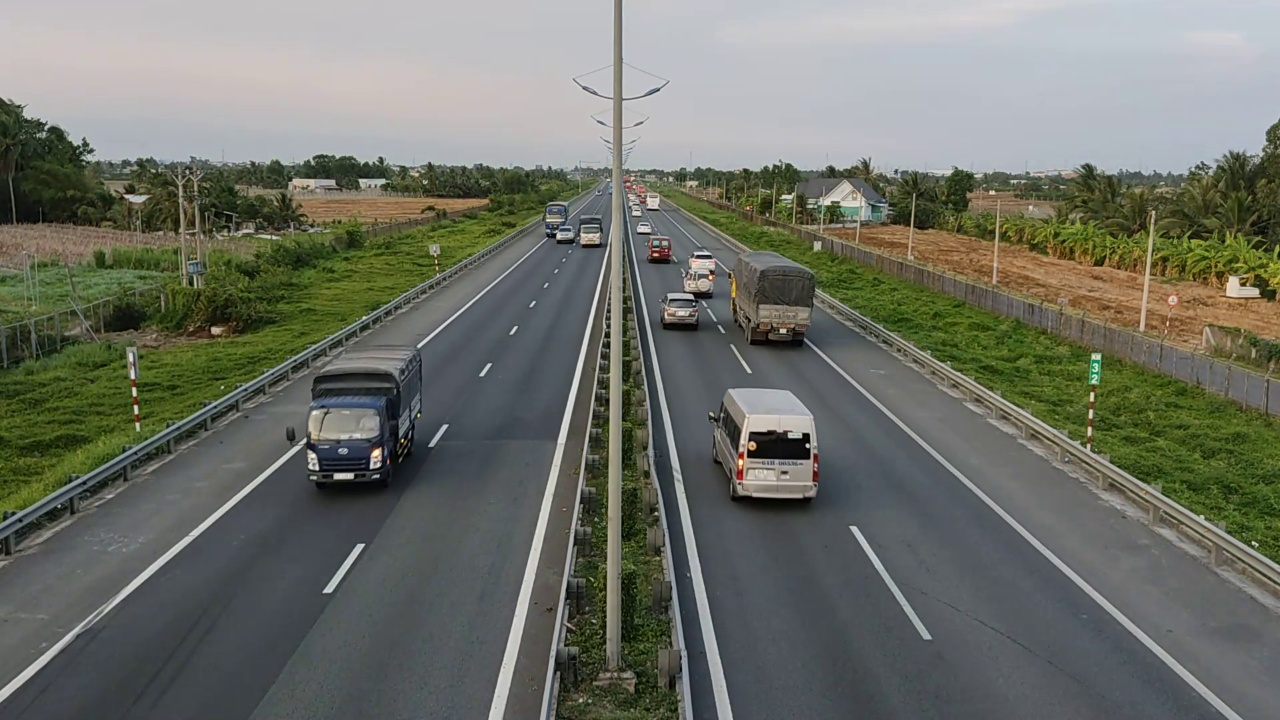car: (707, 386, 819, 501), (660, 292, 699, 329), (646, 235, 674, 263), (579, 217, 603, 247), (555, 223, 575, 243)
truck: (296, 344, 423, 491), (729, 250, 816, 344)
